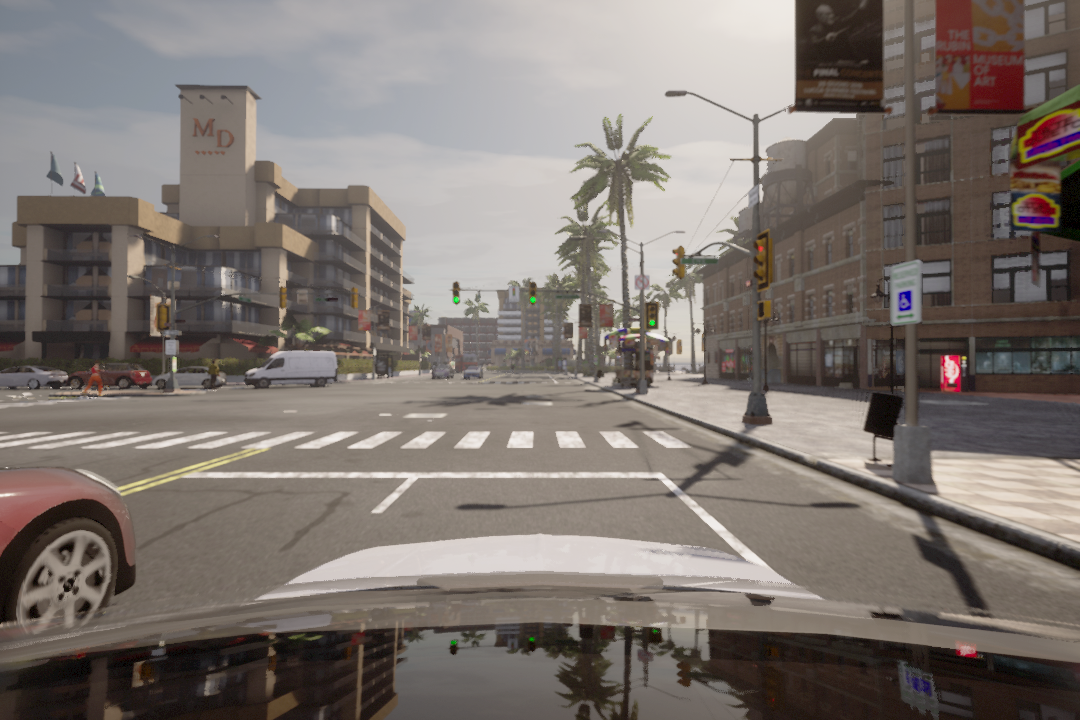TrafficLight: (754, 234, 772, 291), (669, 247, 687, 277), (647, 302, 659, 329), (529, 281, 541, 306), (450, 279, 460, 305)
TrafficSign: (634, 273, 651, 290)
walkside: (1, 424, 739, 465)
